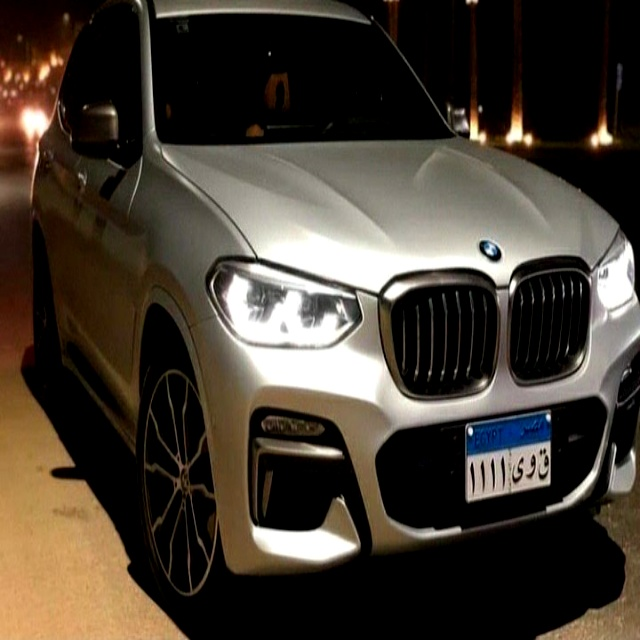License Plate: (464, 410, 553, 504)
